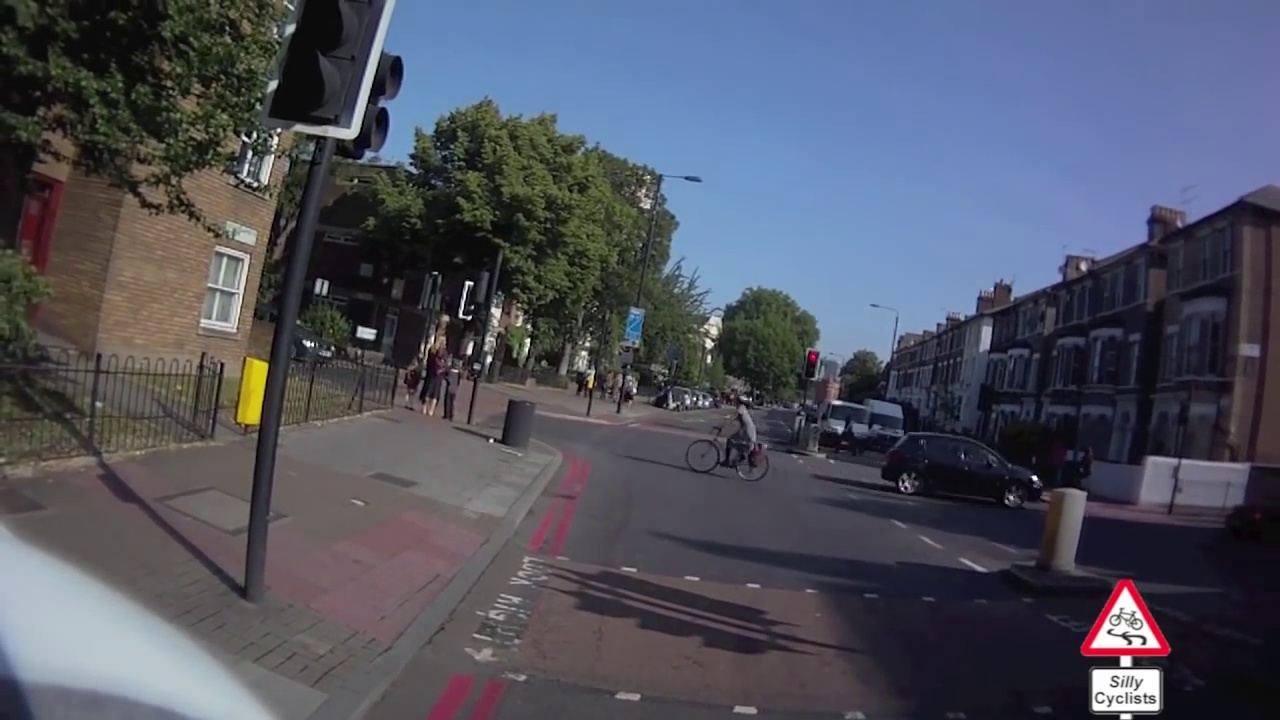cyclist_side: (681, 394, 778, 491)
